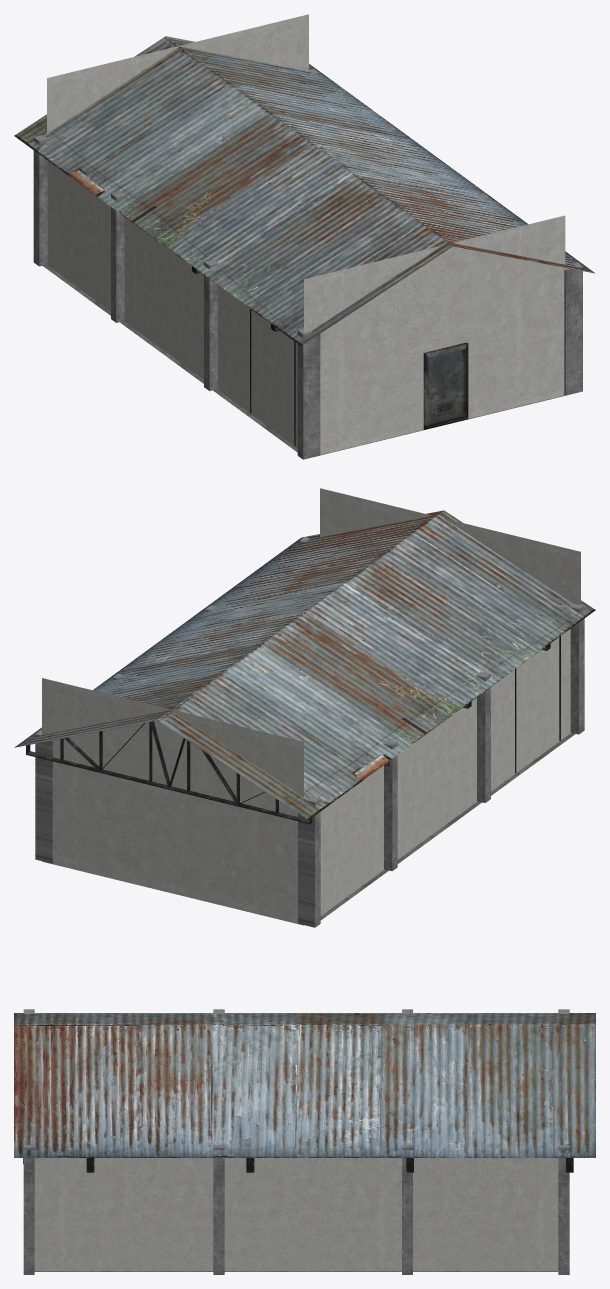
The model's file is СкладV2.fbx.
3 views of the same model, one above another, from view 1: azimuth 30°, elevation 25°; view 2: azimuth 150°, elevation 25°; view 3: azimuth 270°, elevation 25° (orthographic).
Parts seen in each view (by area): view 1: Roof, Wall_door, Wall2.001, Back wall, ShackExitDoorReg01:41, Wall2, Poll; view 2: Roof, Back wall, Wall2.001, Wall_door, AMMA, Wall2, Poll; view 3: Roof, Wall2, Wall2.001, AMMA, Poll.
Boxes of the visible parts, x1=… form: Roof: x1=14, y1=36, x2=595, y2=345; Wall_door: x1=304, y1=215, x2=565, y2=454; Wall2.001: x1=33, y1=135, x2=320, y2=459; Back wall: x1=47, y1=14, x2=308, y2=133; ShackExitDoorReg01:41: x1=423, y1=342, x2=468, y2=429; Wall2: x1=309, y1=69, x2=582, y2=395; Poll: x1=42, y1=264, x2=564, y2=455; Roof: x1=14, y1=510, x2=595, y2=819; Back wall: x1=42, y1=678, x2=303, y2=925; Wall2.001: x1=298, y1=604, x2=584, y2=927; Wall_door: x1=320, y1=488, x2=580, y2=605; AMMA: x1=26, y1=643, x2=550, y2=823; Wall2: x1=35, y1=537, x2=309, y2=863; Poll: x1=55, y1=733, x2=575, y2=921; Roof: x1=14, y1=1013, x2=595, y2=1157; Wall2: x1=23, y1=1145, x2=569, y2=1274; Wall2.001: x1=23, y1=1009, x2=569, y2=1013; AMMA: x1=86, y1=1158, x2=573, y2=1172; Poll: x1=34, y1=1271, x2=558, y2=1271.
Size of the model in its own units: 1336 by 795 by 2254.
Materials: 11 (11 with a texture image).
